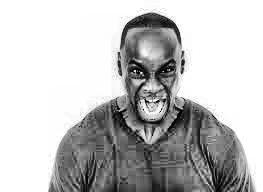angry: (115, 18, 189, 134)
